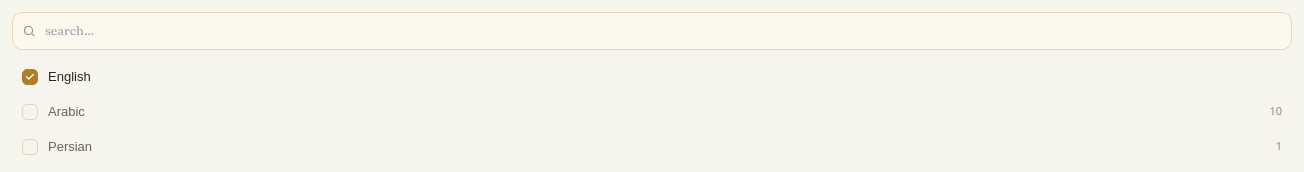
Test case: OptionListPane (static source) › narrows client-side while keeping selections visible
Type "pers" into the dropdown. click: (652, 31)
box: [12, 12, 1292, 50]
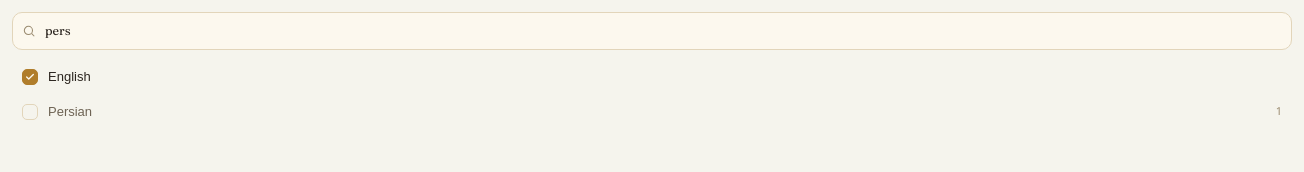
Now the number of options is 2, box [12, 60, 1292, 95]; [12, 95, 1292, 130]
